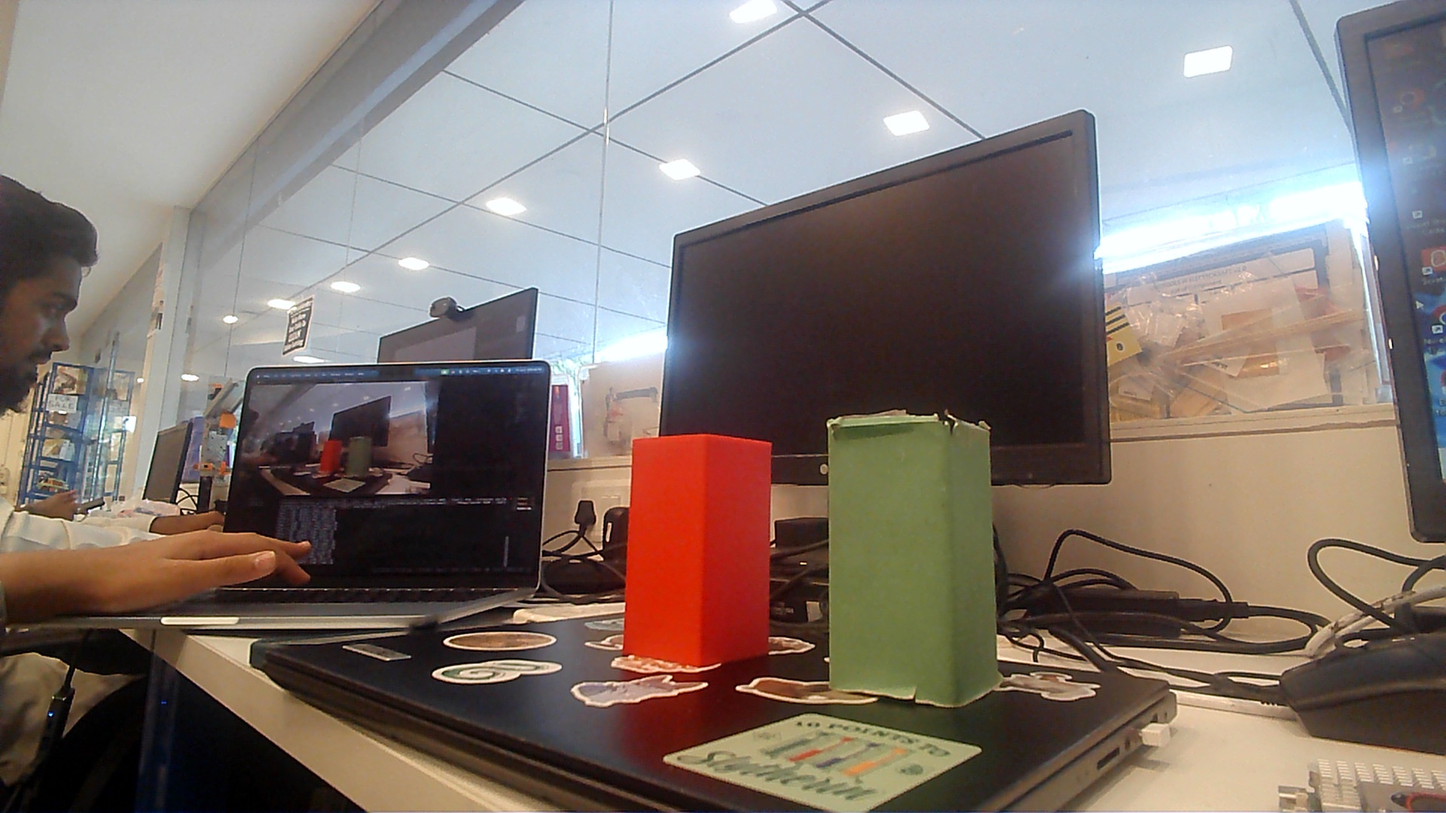green: (831, 424, 987, 708)
